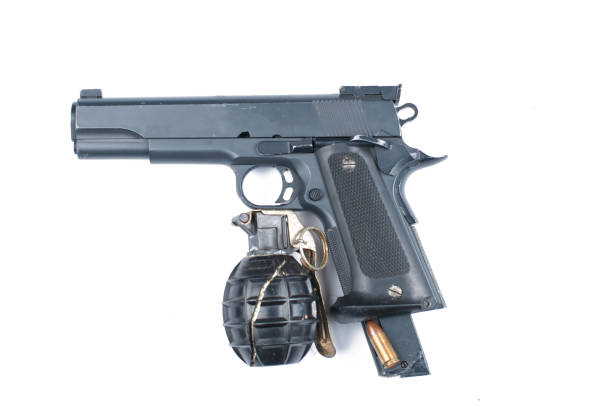e1: (221, 212, 338, 375)
